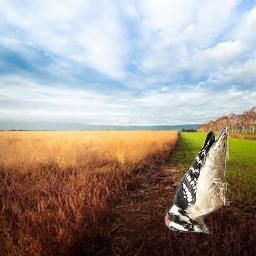Woodpecker: (164, 126, 230, 234)
